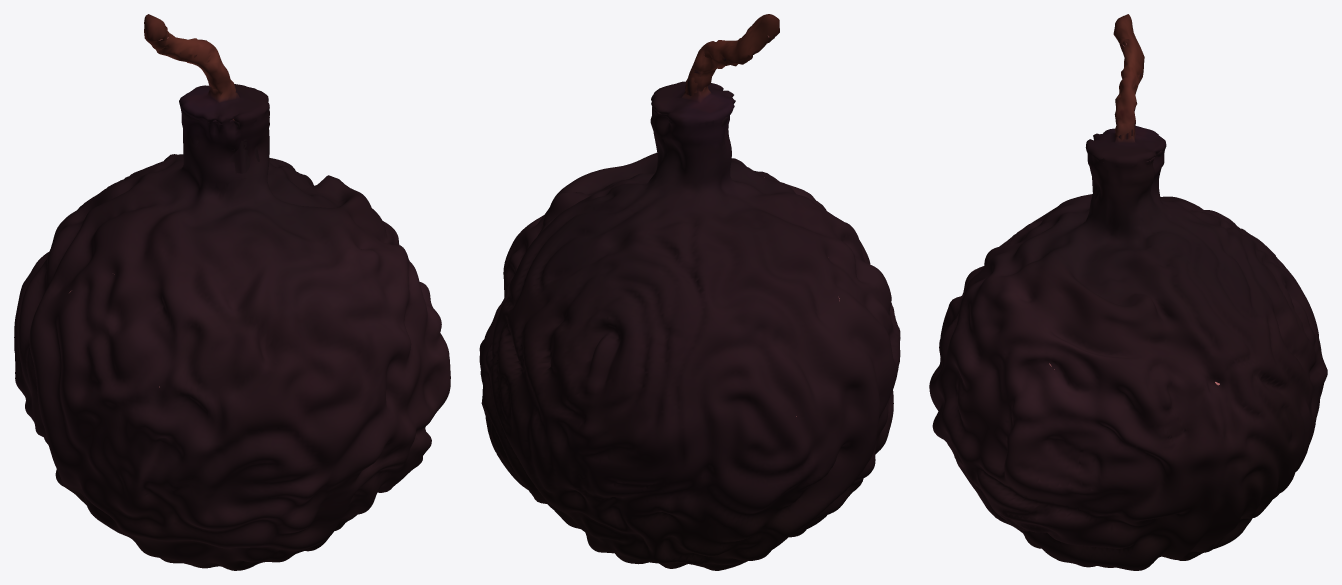
Rendered from fleshbomb_correct.fbx.
3 renders of one model, left to right at view 1: azimuth 30°, elevation 25°; view 2: azimuth 150°, elevation 25°; view 3: azimuth 270°, elevation 25°, orthographic. The views are drawn at different scales.
Visible parts, largest first — view 1: Sphere.001; view 2: Sphere.001; view 3: Sphere.001.
Part boxes in pixels (x1,y1,x2,y2): Sphere.001: (14, 14, 450, 570); Sphere.001: (479, 14, 900, 570); Sphere.001: (929, 14, 1327, 570).
Size of the model in its own units: 1.02 by 1.06 by 1.49.
